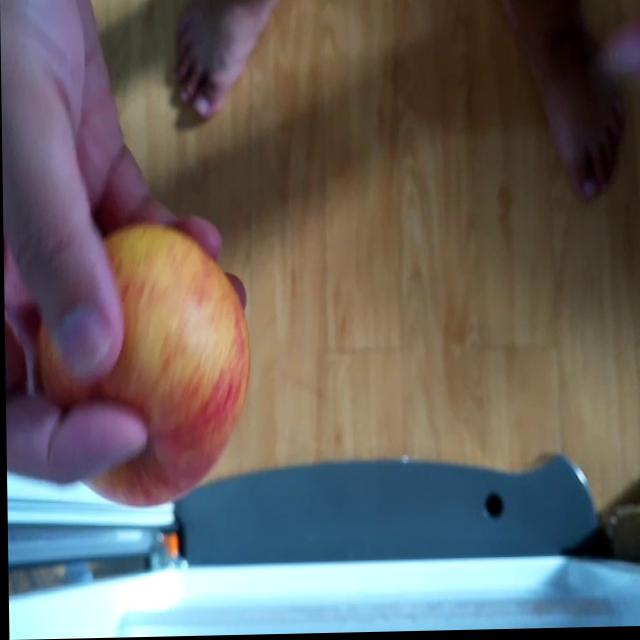apple: (38, 221, 249, 506)
